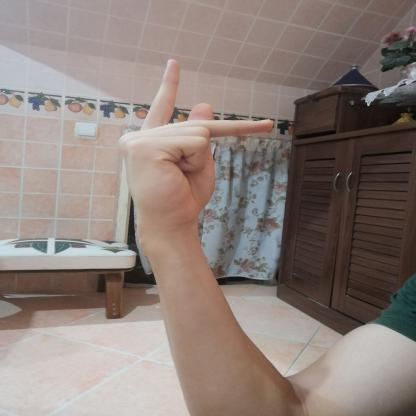DHAA: (106, 51, 282, 241)
